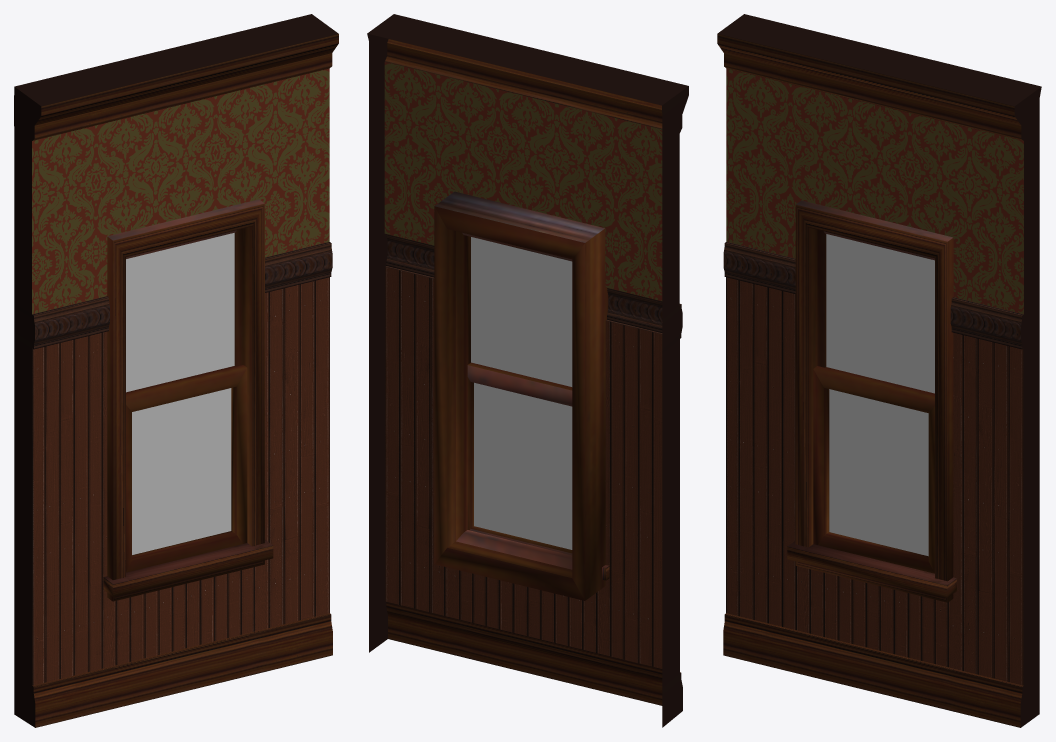
The model's file is Wall2Window.fbx.
The picture shows the model from 3 angles, left to right: view 1: azimuth 30°, elevation 25°; view 2: azimuth 150°, elevation 25°; view 3: azimuth 330°, elevation 25°; orthographic projection.
Visible parts, largest first — view 1: WallSection2Window; view 2: WallSection2Window; view 3: WallSection2Window.
Part boxes in pixels (box(x1,y1,x2,y2)): WallSection2Window: box(14, 14, 338, 727); WallSection2Window: box(367, 14, 688, 727); WallSection2Window: box(717, 14, 1041, 727).
Bounding box in the file's own units: 185 × 372 × 32.96.
